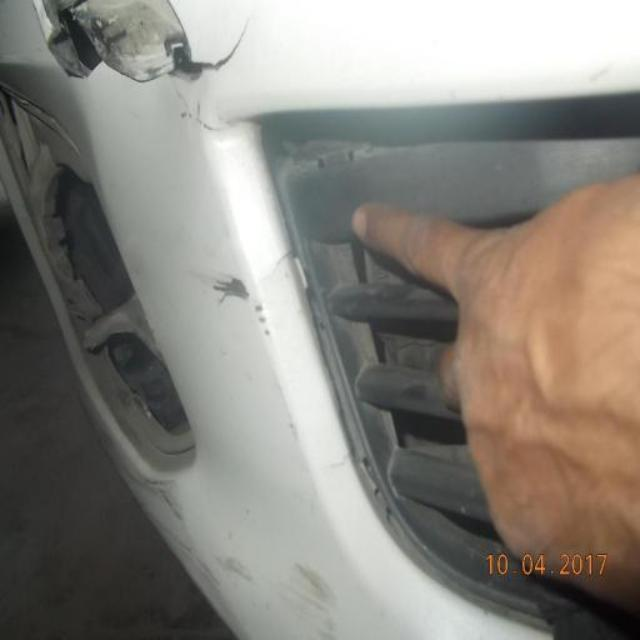crack: (39, 0, 254, 81), (211, 269, 254, 312)
dent: (276, 560, 342, 640)
scratch: (88, 391, 195, 544), (145, 511, 225, 599), (213, 550, 262, 586)
